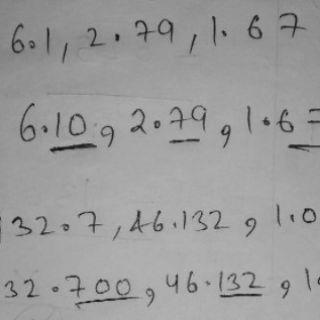.: (260, 113, 271, 128), (151, 117, 164, 129), (111, 30, 123, 42), (39, 122, 50, 134), (60, 222, 71, 233), (50, 283, 60, 294), (28, 38, 37, 49), (288, 210, 295, 224), (220, 28, 228, 38), (171, 219, 178, 229)
0: (66, 112, 89, 139), (300, 203, 318, 225), (91, 277, 111, 295)
1: (243, 103, 255, 135), (42, 24, 52, 56), (209, 13, 218, 47), (53, 109, 63, 138), (273, 202, 283, 229), (215, 270, 225, 294), (180, 207, 189, 231)
2: (33, 211, 56, 237), (83, 24, 106, 49), (128, 108, 149, 135), (208, 206, 231, 230), (241, 268, 265, 291), (21, 276, 40, 300)
3: (9, 212, 33, 238), (190, 206, 208, 233), (1, 277, 17, 301), (225, 270, 241, 292)
4: (127, 207, 148, 236), (164, 269, 181, 295)
6: (16, 101, 39, 144), (275, 108, 296, 137), (10, 20, 27, 55), (244, 13, 265, 41), (184, 267, 201, 295), (151, 204, 165, 234)
7: (276, 10, 306, 39), (75, 207, 103, 234), (166, 103, 190, 132), (63, 270, 86, 299), (132, 16, 154, 43)
9: (156, 15, 178, 45), (189, 102, 210, 132)
